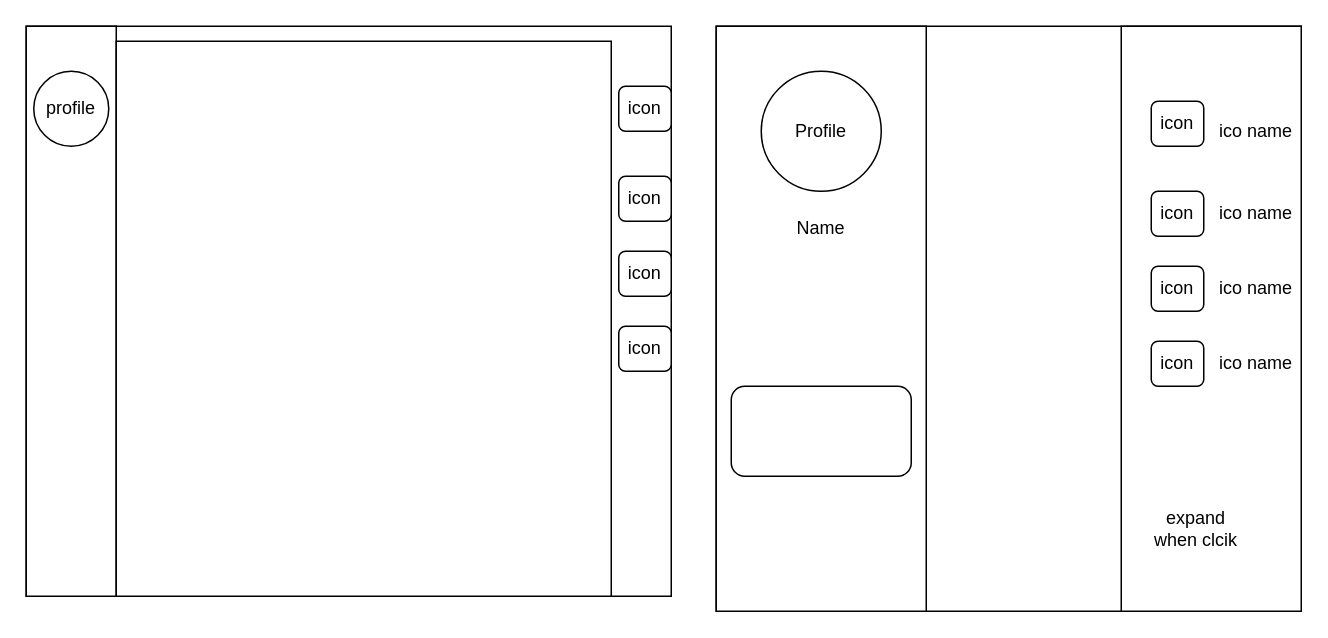
Image size: 1328x638. Some labels were removed from this diagram. The centre of each missing label's shape, as x and y in pixels:
"expand when click" goes at (x=820, y=430).
"feed" goes at (x=363, y=318).
